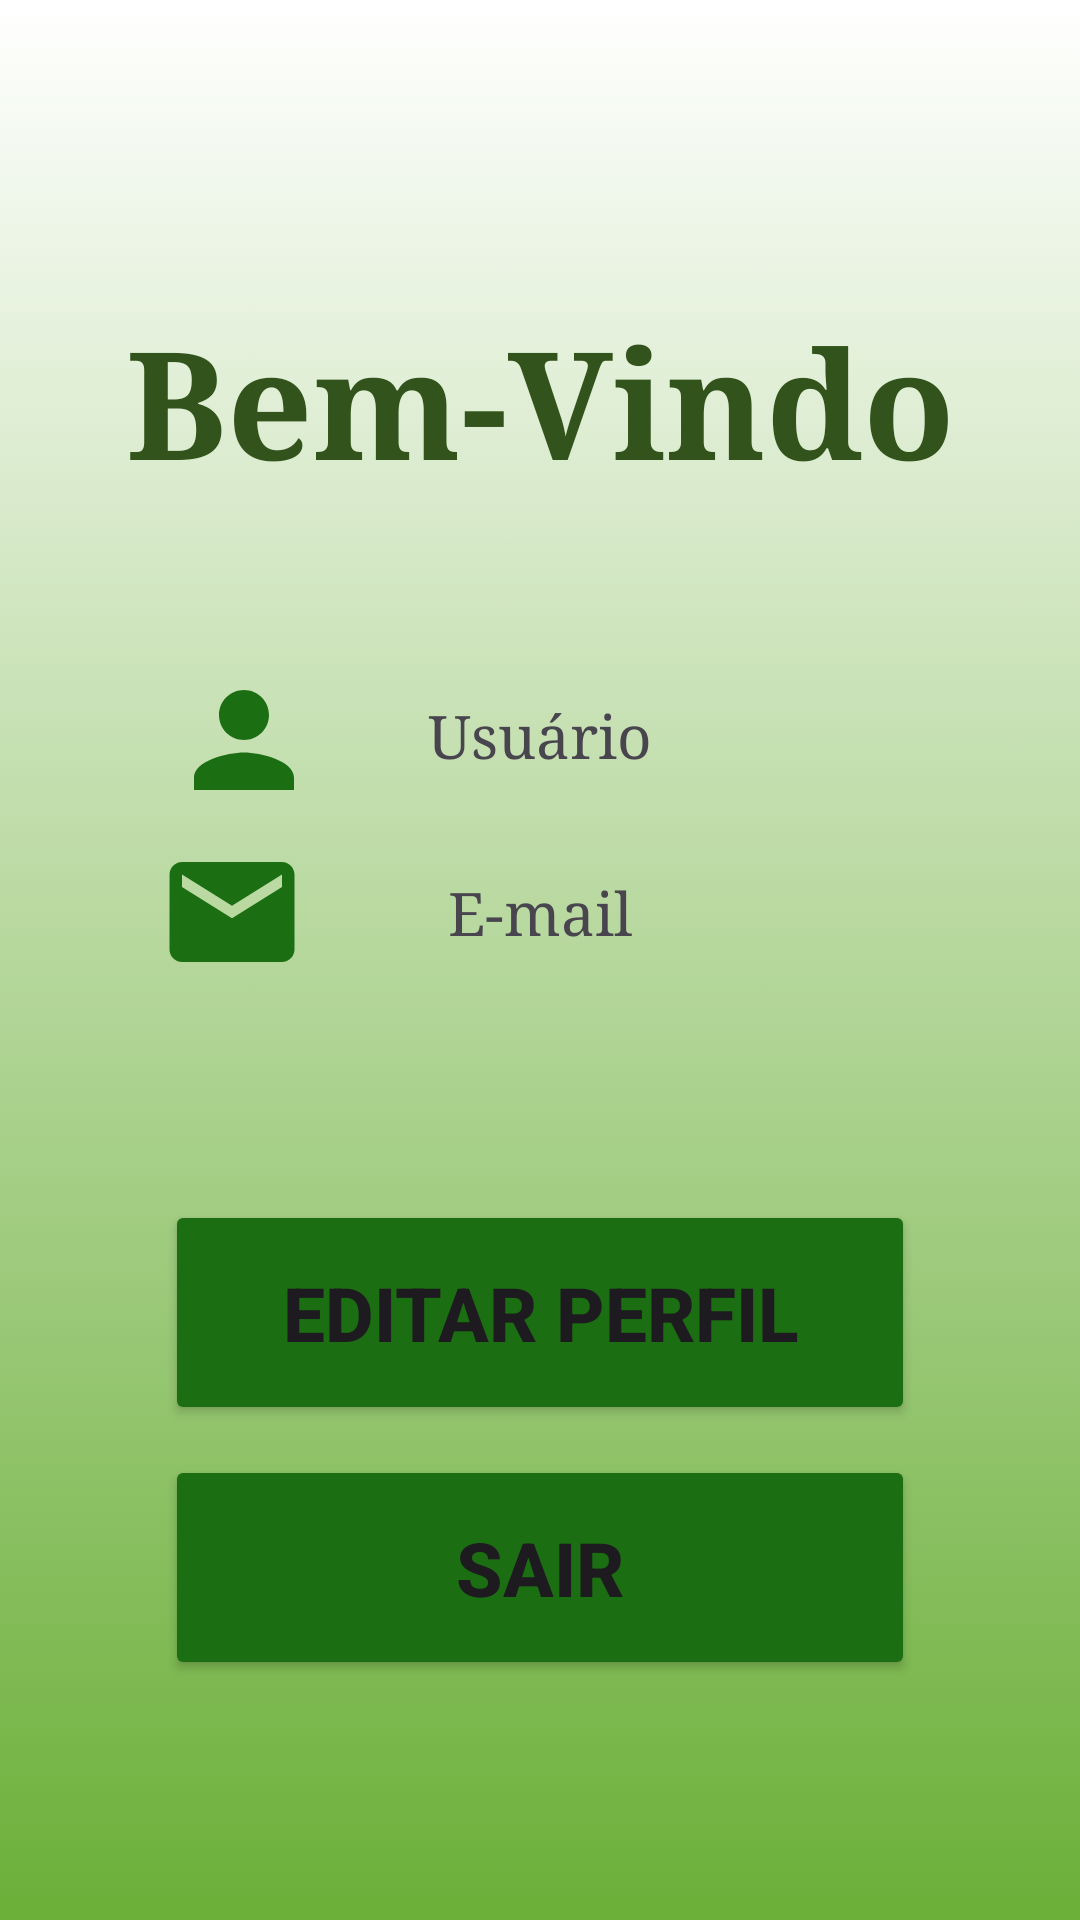

Screen size 1080 x 1920. Icon name, then its center in pixels as point (x, y):
perfilverde: point (244, 740)
